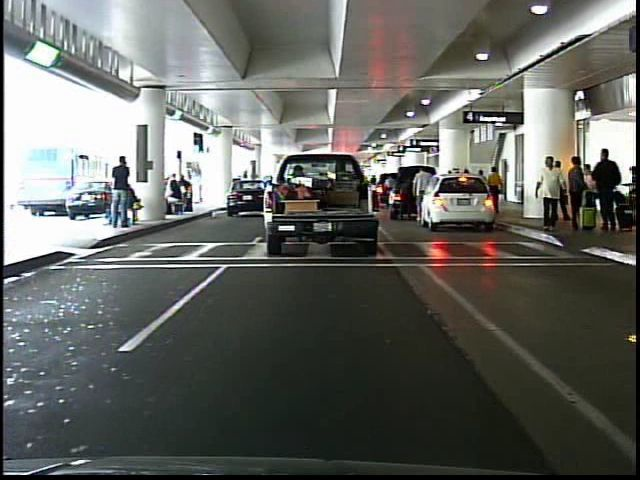person: (533, 149, 568, 237), (591, 146, 623, 238), (566, 152, 589, 230), (411, 162, 436, 227), (114, 156, 135, 232), (491, 165, 505, 216), (191, 168, 203, 210), (631, 161, 636, 191)
